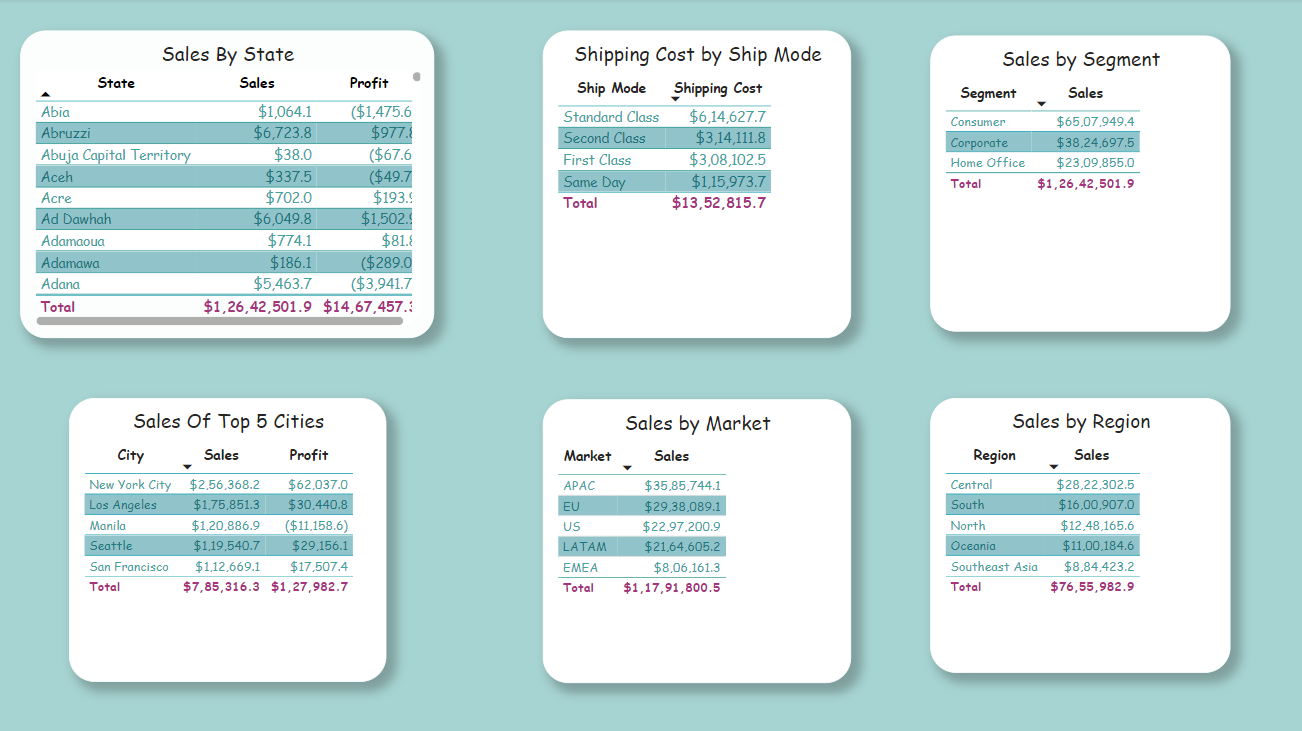

Layout of this report page (visuals, bound fields, positions):
{"tool":"powerbi","page":{"name":"Tables","canvas":[1280,720],"ordinal":1},"visuals":[{"type":"tableEx","title":" Shipping Cost by Ship Mode","fields":{"Values":["Orders.Ship Mode","Sum(Orders.Shipping Cost)"]},"box":[531.7,31.8,301.9,300.7],"z":0},{"type":"tableEx","title":"Sales by Segment","fields":{"Values":["Orders.Segment","Sum(Orders.Sales)"]},"box":[910.7,36.7,293.4,289.7],"z":1000},{"type":"tableEx","title":"Sales by Market","fields":{"Values":["Orders.Market","Sum(Orders.Sales)"]},"box":[531.7,392.4,301.9,277.5],"z":2000},{"type":"tableEx","title":"Sales By State","fields":{"Values":["Orders.State","Sum(Orders.Sales)","Sum(Orders.Profit)"]},"box":[20.8,31.8,404.6,300.7],"z":8000},{"type":"tableEx","title":"Sales by Region","fields":{"Values":["Orders.Region","Sum(Orders.Sales)"]},"box":[910.7,391.2,293.4,268.9],"z":9000},{"type":"tableEx","title":"Sales Of Top 5 Cities","fields":{"Values":["Orders.City","Sum(Orders.Sales)","Sum(Orders.Profit)"]},"box":[68.5,391.2,310.5,277.5],"z":10000}]}

Visuals, with their boxes in screenshot pixels (x1, y1, x2, y2), scaled from the page's 1280x720 canvas onto the 1302x731 screenshot:
" Shipping Cost by Ship Mode" tableEx: {"x1": 541, "y1": 32, "x2": 848, "y2": 338}
"Sales by Segment" tableEx: {"x1": 926, "y1": 37, "x2": 1225, "y2": 331}
"Sales by Market" tableEx: {"x1": 541, "y1": 398, "x2": 848, "y2": 680}
"Sales By State" tableEx: {"x1": 21, "y1": 32, "x2": 433, "y2": 338}
"Sales by Region" tableEx: {"x1": 926, "y1": 397, "x2": 1225, "y2": 670}
"Sales Of Top 5 Cities" tableEx: {"x1": 70, "y1": 397, "x2": 386, "y2": 679}
